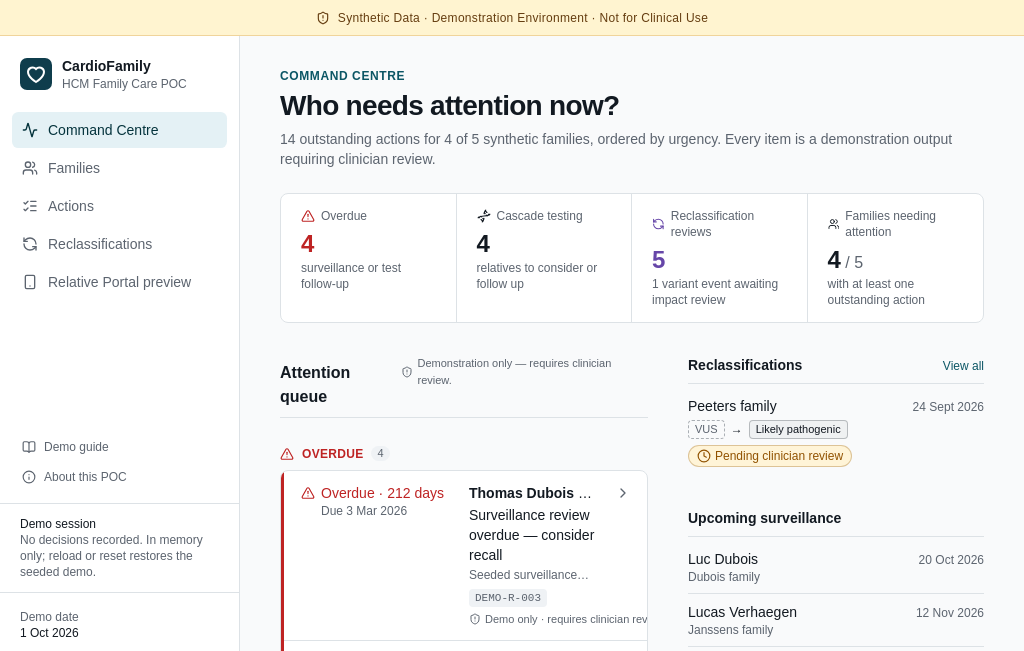
Test case: Demo guide › opens from the sidebar inside the clinician shell
Step 1. Click the link "Demo guide" → [65, 447], box [22,440,109,454]
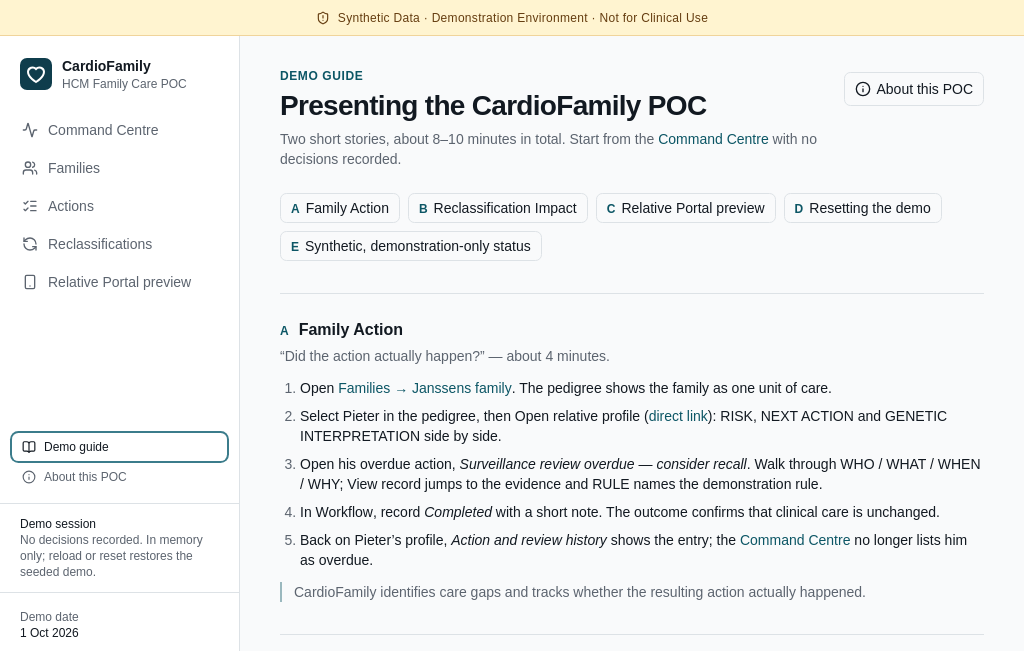
Check: the navigation bar named "Primary" is shown, box [22,122,191,290]
Check: the heading "Presenting the CardioFamily POC" is shown, box [280,90,706,121]
